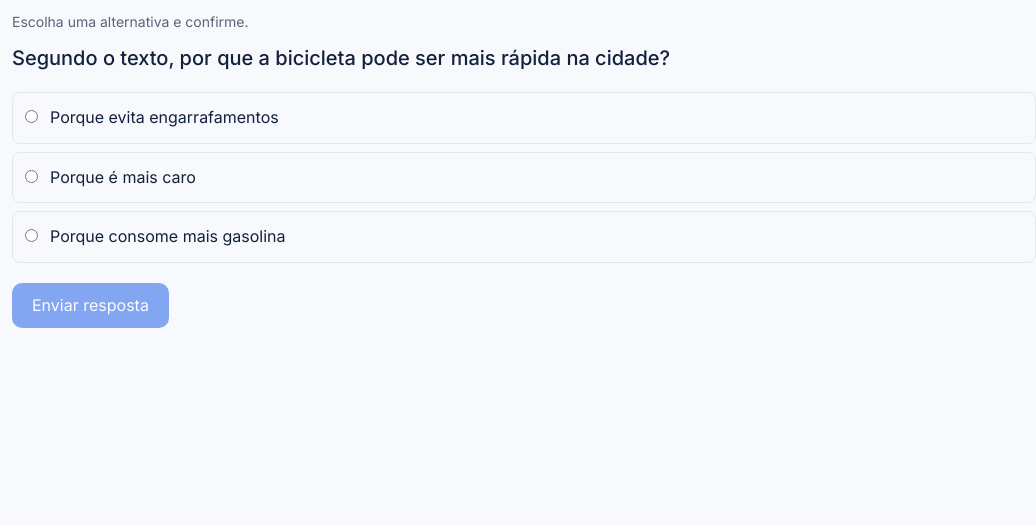
Test case: ObjectiveChoice — tentativa única (backend) › ao clicar Nova tentativa, troca a questão pela variante do backend
Click the radio button labelled "Porque é mais caro" at (32, 176), box [25,170,38,183]
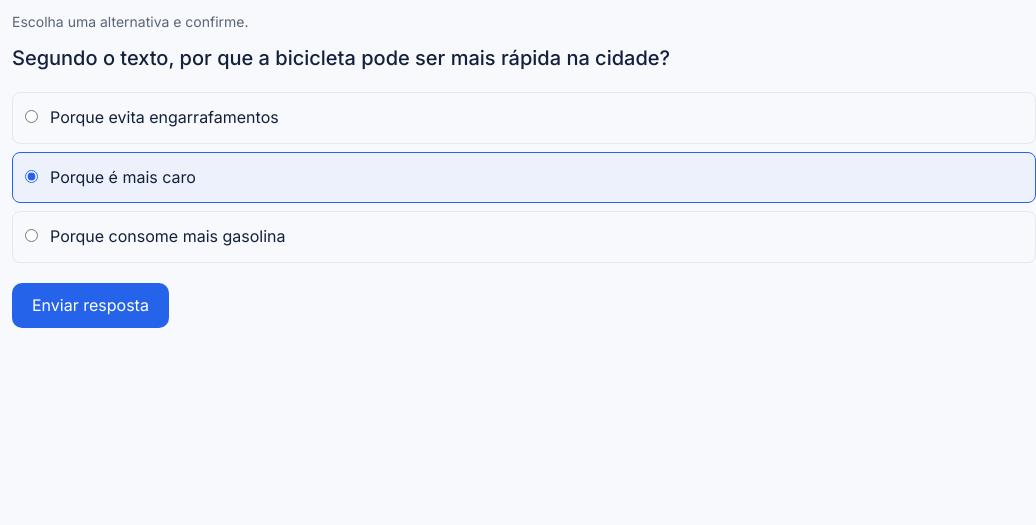
Click the button "Enviar resposta" at (90, 306), box [12,283,169,328]
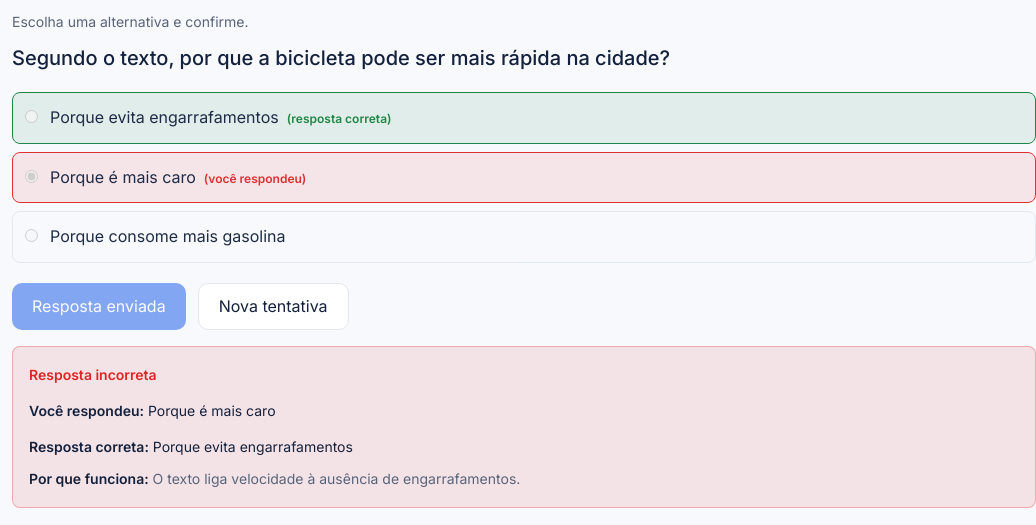
Expected: the button "Nova tentativa" is shown
Click the button "Nova tentativa" at (273, 307), box [198,283,349,330]
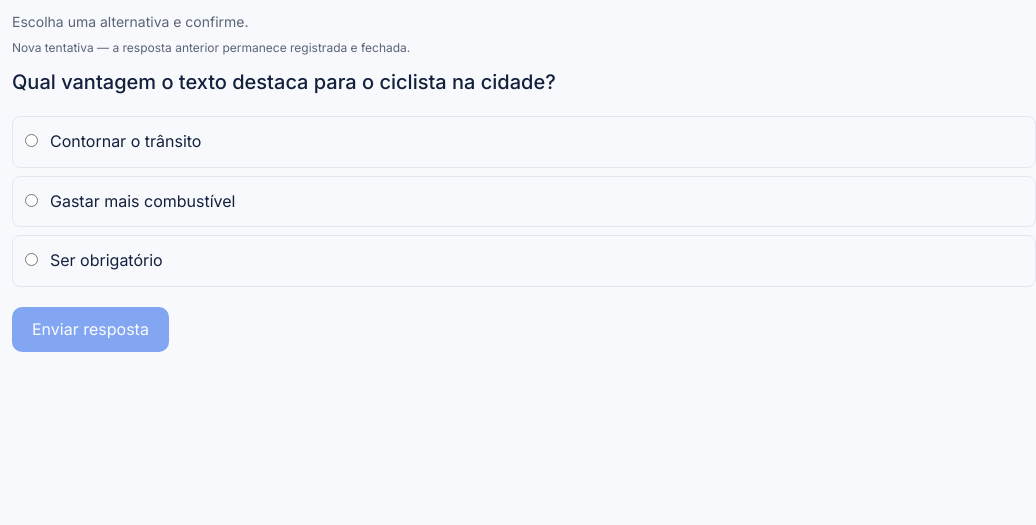
Expected: the text "Qual vantagem o texto destaca para o ciclista na cidade?" is shown, [12,70,556,94]
Expected: the text "Segundo o texto, por que a bicicleta pode ser mais rápida na cidade?" is gone
Expected: the radio button labelled "Contornar o trânsito" is enabled, [25,134,38,147]
